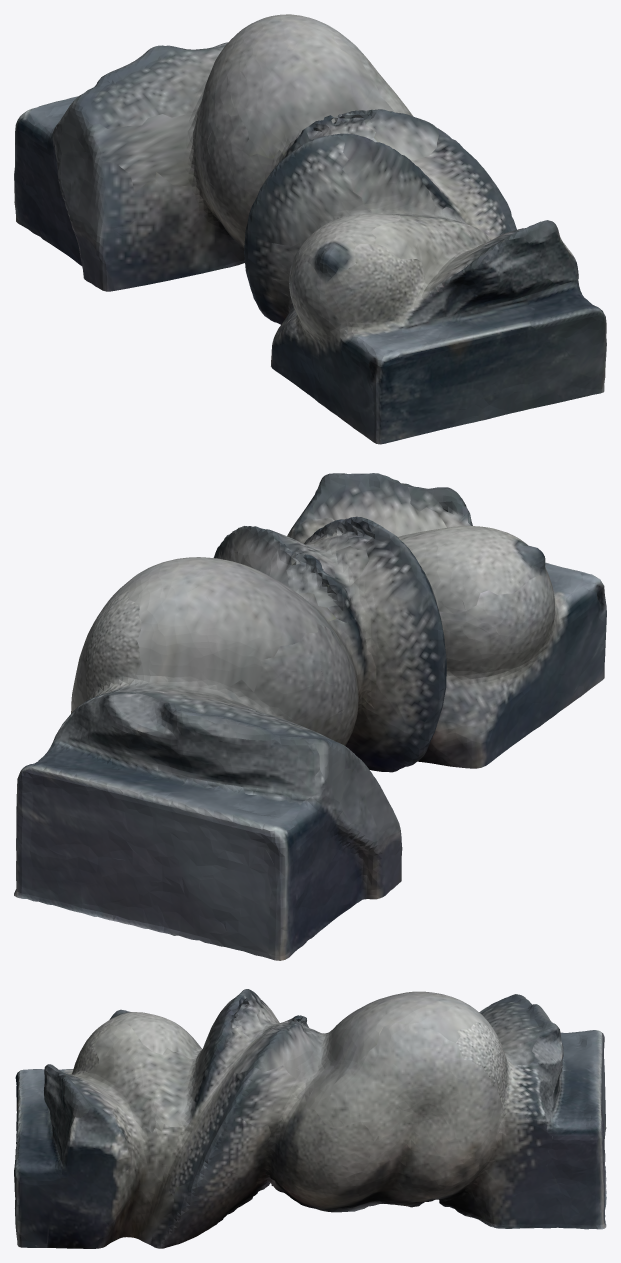
File: schemalist_4(re).glb
3 views of the same model, one above another, from view 1: azimuth 30°, elevation 25°; view 2: azimuth 150°, elevation 25°; view 3: azimuth 270°, elevation 25° (orthographic). The views are drawn at different scales.
Visible parts, largest first — view 1: textured; view 2: textured; view 3: textured.
Part boxes in pixels (bbox=[...]): textured: bbox=[14, 14, 606, 444]; textured: bbox=[14, 473, 606, 960]; textured: bbox=[14, 989, 606, 1248].
Bounding box in the file's own units: 0.3012 × 0.2213 × 0.5773.
Materials: 1 (1 with a texture image).
